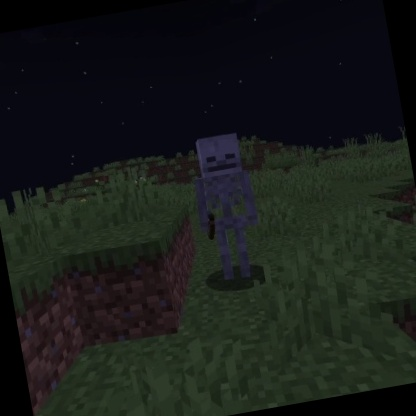skeleton: (182, 126, 272, 288)
